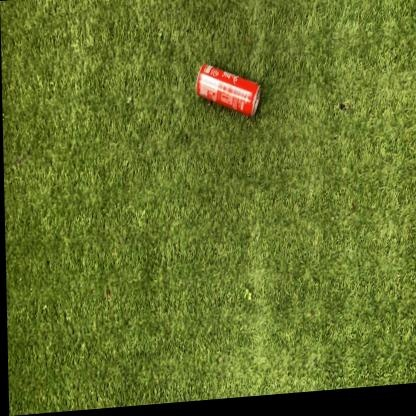trash: (197, 64, 259, 115)
